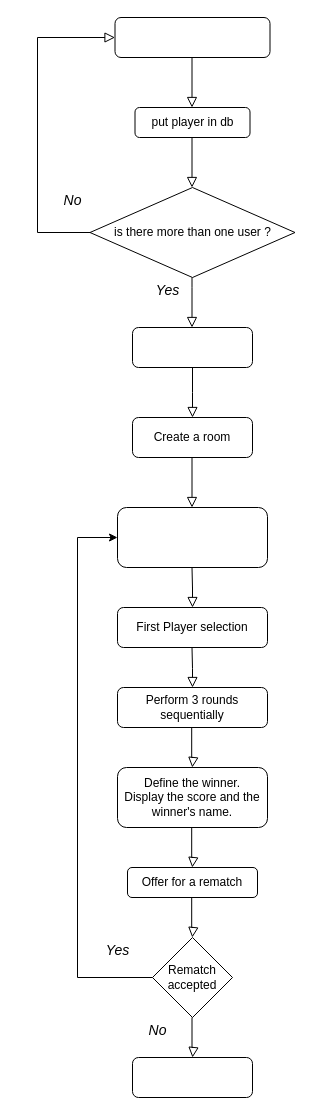
Some shapes in this 312 by 1115 pixel diagram are drawn without their labels. The shapes that lost their labels are listed below. From the top down, each one's centre as x and y in pixels, then its label:
At (192,37): "Wait for the next player".
At (192,347): "Match 2 players".
At (192,537): "Wait while both press 'Ready'".
At (192,1077): "Free up the room".
